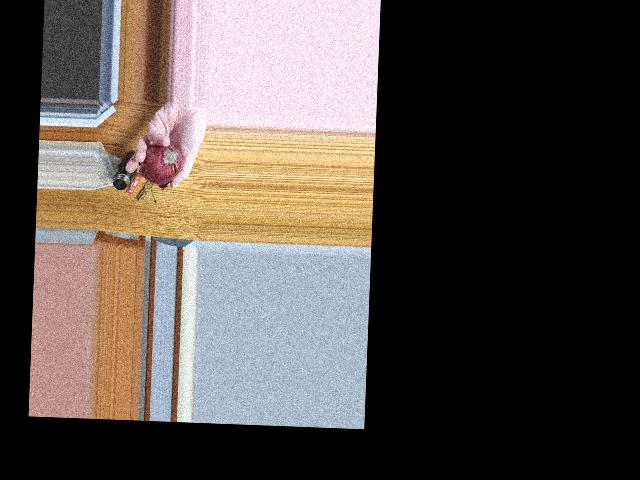onion: (141, 140, 184, 185)
